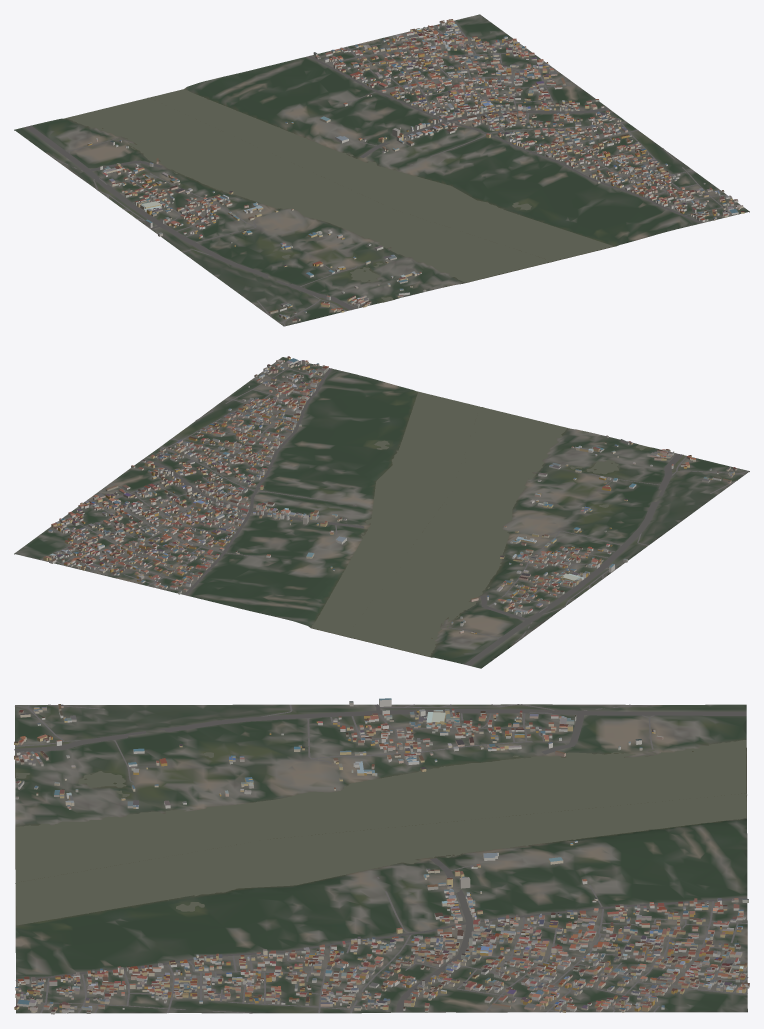
The picture shows the model from 3 angles, top to bottom: view 1: azimuth 30°, elevation 25°; view 2: azimuth 150°, elevation 25°; view 3: azimuth 270°, elevation 25°; orthographic projection. The views are drawn at different scales.
Visible parts, largest first — view 1: ground, water, buildings, roads; view 2: ground, water, buildings, roads; view 3: ground, water, buildings, roads.
Part boxes in pixels (bbox=[...]): ground: bbox=[14, 14, 749, 326]; water: bbox=[66, 89, 613, 301]; buildings: bbox=[87, 19, 744, 322]; roads: bbox=[25, 23, 740, 326]; ground: bbox=[14, 357, 749, 668]; water: bbox=[311, 391, 646, 656]; buildings: bbox=[43, 356, 737, 634]; roads: bbox=[41, 363, 748, 665]; ground: bbox=[15, 704, 747, 1013]; water: bbox=[15, 740, 746, 925]; buildings: bbox=[14, 698, 749, 1014]; roads: bbox=[14, 704, 748, 1013].
Bounding box in the file's own units: 1411 × 29.01 × 1410.
